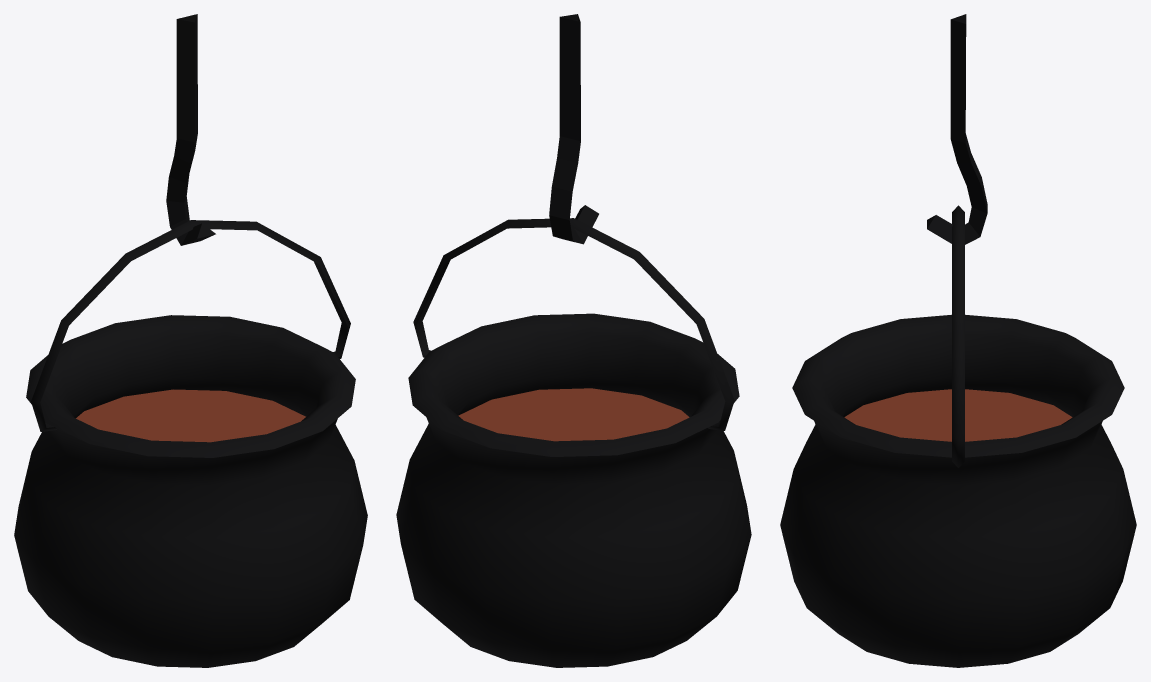
Rendered from Furniture_CookPot.fbx.
The picture shows the model from 3 angles, left to right: view 1: azimuth 30°, elevation 25°; view 2: azimuth 150°, elevation 25°; view 3: azimuth 270°, elevation 25°; orthographic projection.
Visible parts, largest first — view 1: CookPot; view 2: CookPot; view 3: CookPot.
Boxes of the visible parts, x1,y1,x2,y2 form: CookPot: (14,14,367,667); CookPot: (396,14,751,667); CookPot: (780,14,1136,667).
Size of the model in its own units: 181 by 329 by 174.
